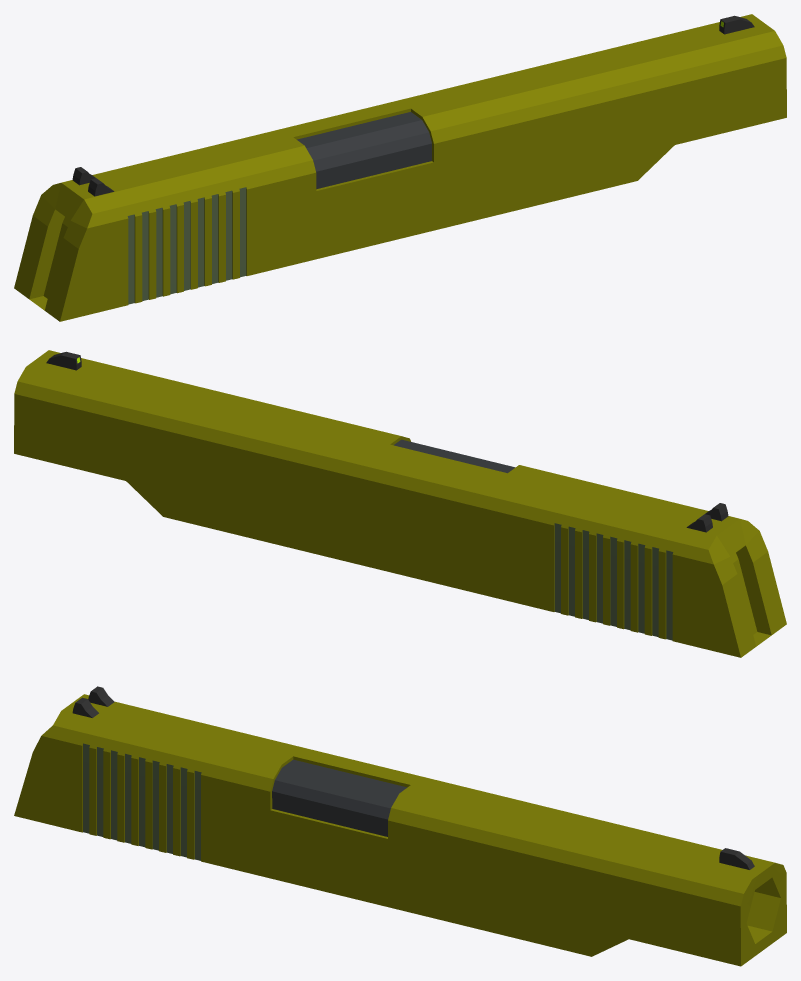
File: Pistol2_05_2.fbx
3 renders of one model, top to bottom at view 1: azimuth 30°, elevation 25°; view 2: azimuth 150°, elevation 25°; view 3: azimuth 330°, elevation 25°, orthographic.
Visible parts, largest first — view 1: Pistol2_05_2; view 2: Pistol2_05_2; view 3: Pistol2_05_2.
Boxes of the visible parts, bbox=[...] form: Pistol2_05_2: bbox=[14, 14, 786, 321]; Pistol2_05_2: bbox=[14, 350, 786, 657]; Pistol2_05_2: bbox=[14, 686, 786, 966].
Size of the model in its own units: 0.225 by 0.0345 by 0.0246.
